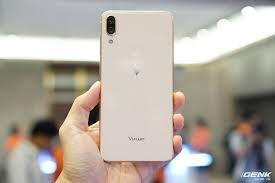vsmart: (96, 8, 178, 165)
